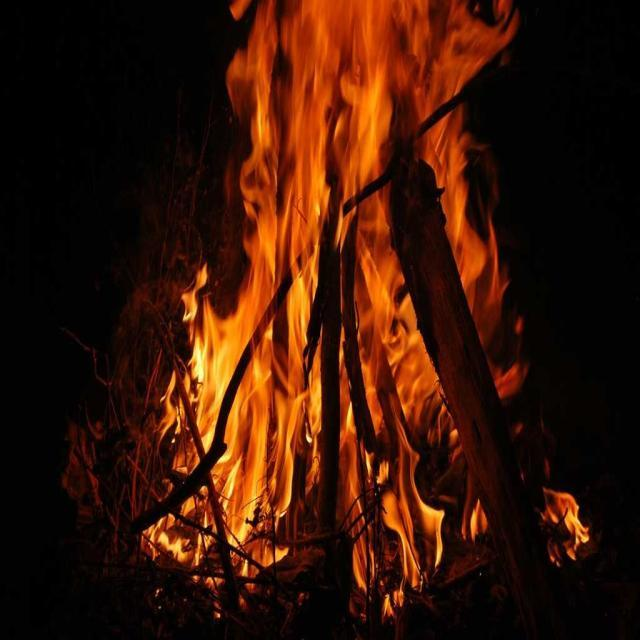Fire: (170, 21, 498, 582)
